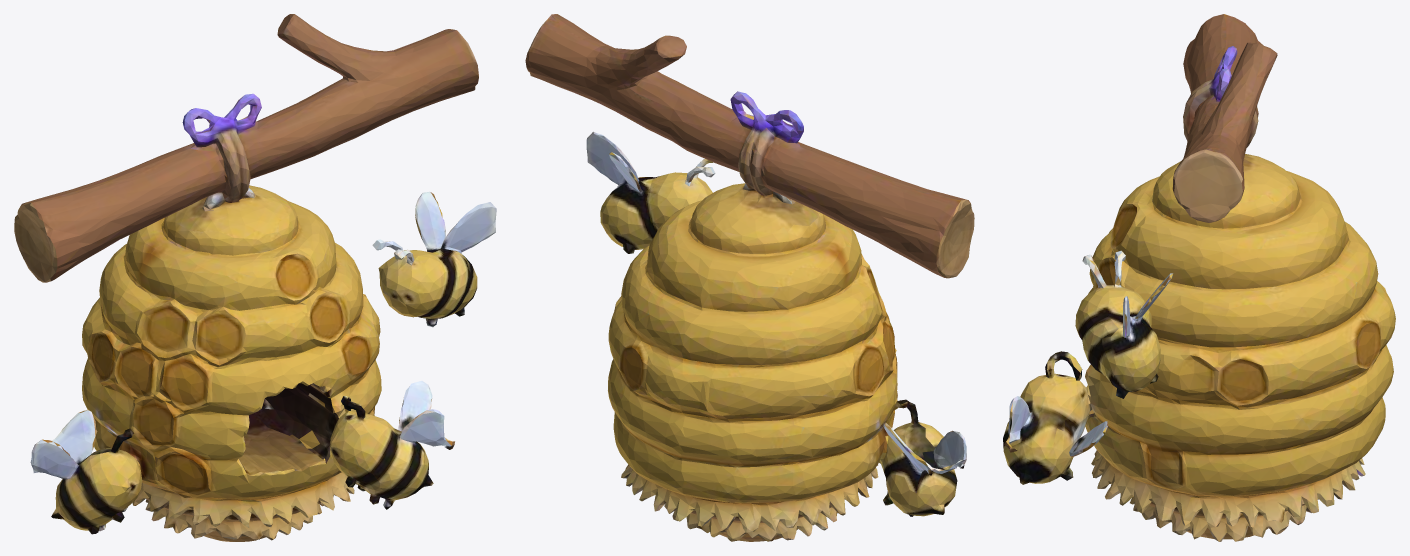
The model's file is beehive.glb.
3 views of the same model, side by side, from view 1: azimuth 30°, elevation 25°; view 2: azimuth 150°, elevation 25°; view 3: azimuth 270°, elevation 25° (orthographic). The views are drawn at different scales.
Visible parts, largest first — view 1: tmpytd_mxzc.ply; view 2: tmpytd_mxzc.ply; view 3: tmpytd_mxzc.ply.
Part boxes in pixels (bbox=[...]): tmpytd_mxzc.ply: bbox=[14, 14, 496, 541]; tmpytd_mxzc.ply: bbox=[525, 14, 974, 541]; tmpytd_mxzc.ply: bbox=[1003, 14, 1395, 541].
Size of the model in its own units: 1.85 by 2 by 1.36.
1 material, 1 textured.
